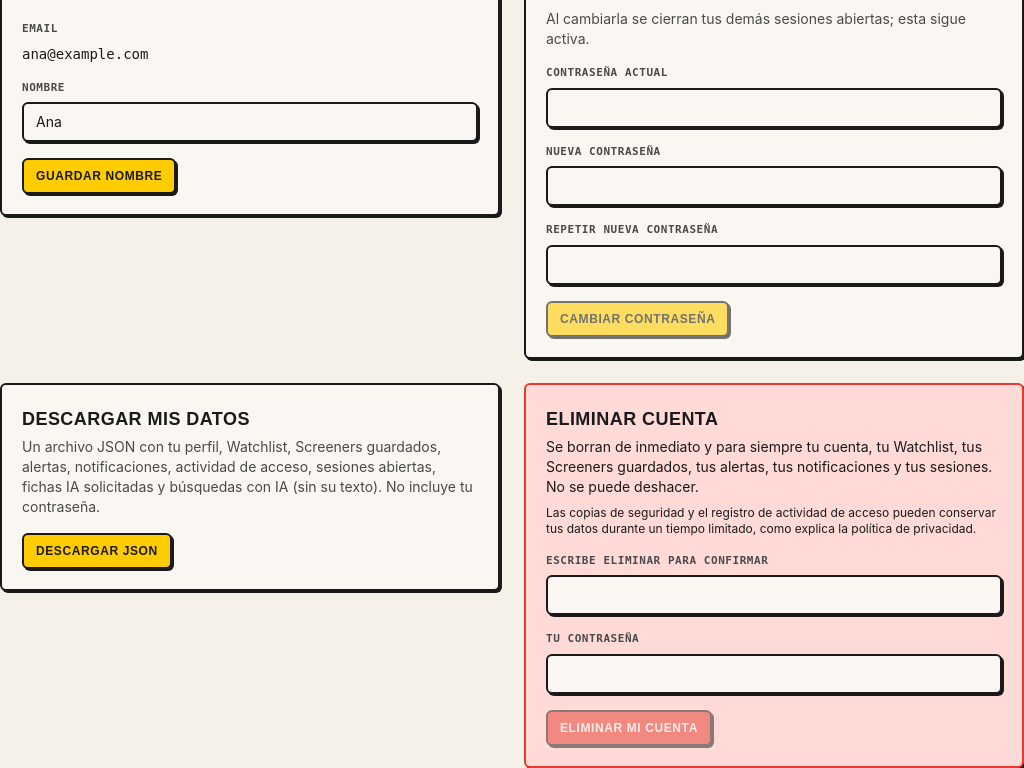
Test: shows the server errors when the deletion is rejected and keeps the account
(page scrolled)
In the field labelled "Escribe ELIMINAR para confirmar": (774, 595) x1=546 y1=575 x2=1002 y2=615, type "BORRAR"
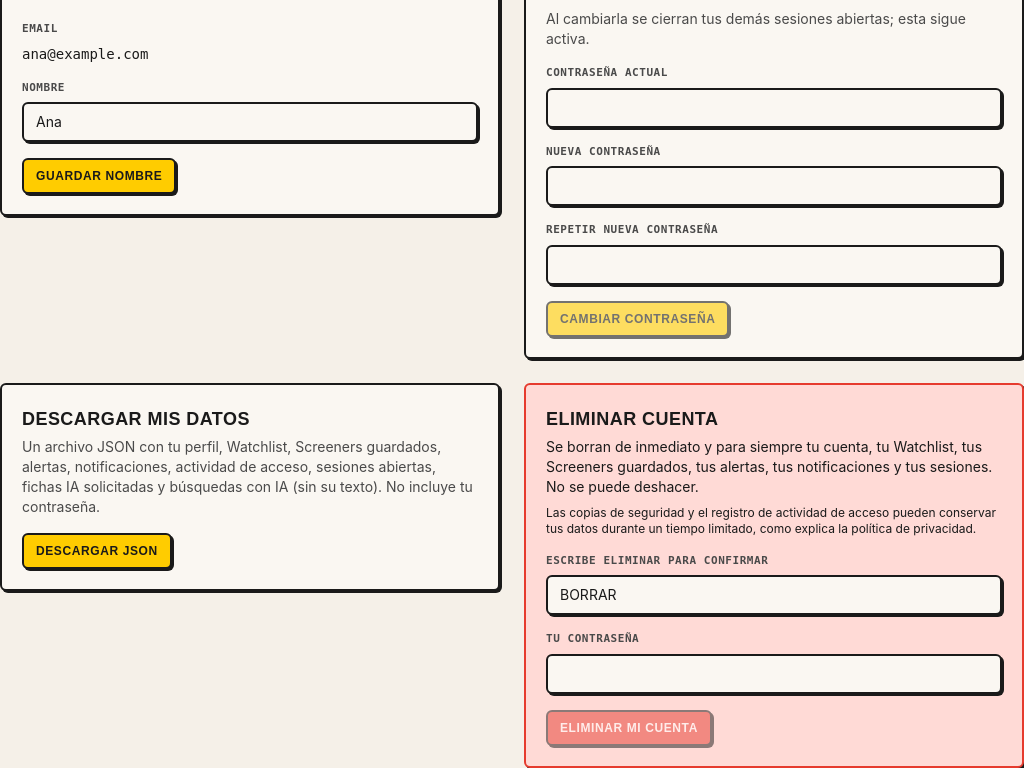
In the password field labelled "Tu contraseña": (774, 674) x1=546 y1=654 x2=1002 y2=694, type "wrong"
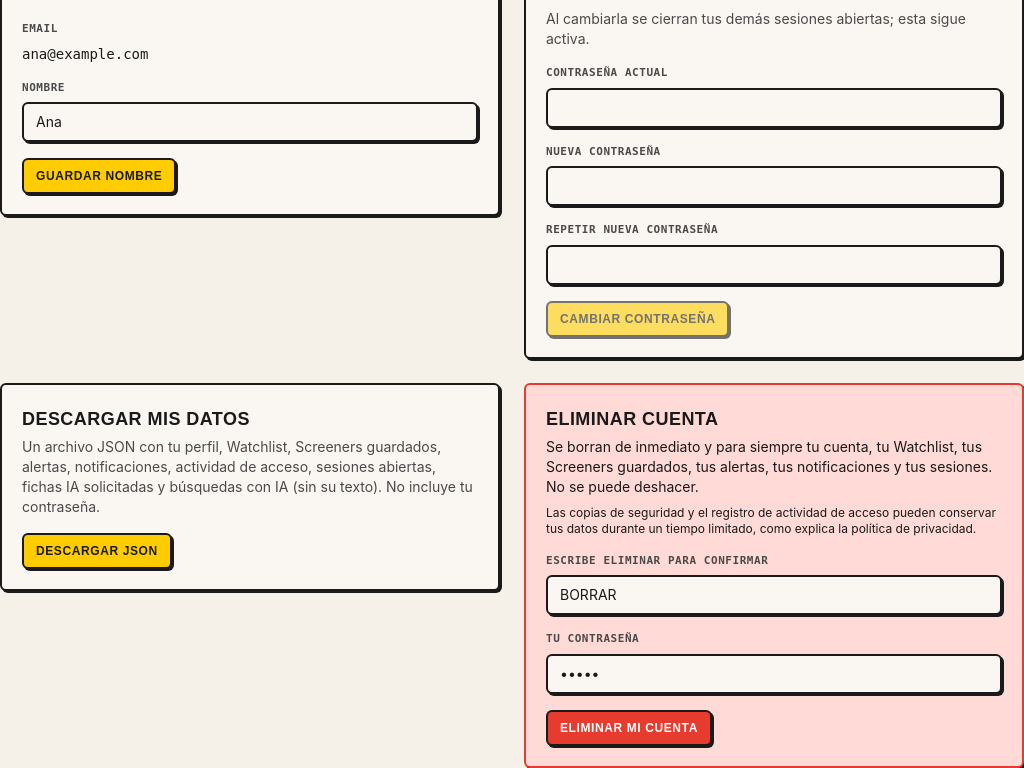
Click the button "Eliminar mi cuenta": click(629, 728) x1=546 y1=710 x2=712 y2=746
(page scrolled)
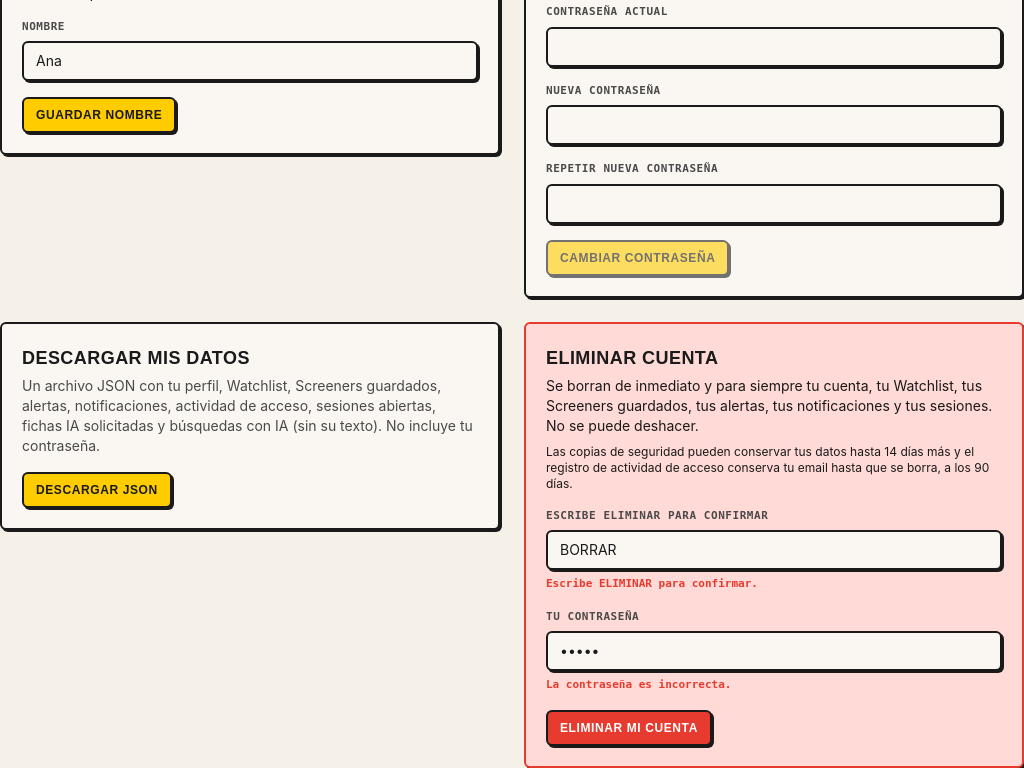
Check: the button "Eliminar mi cuenta" is enabled, box x1=546 y1=710 x2=712 y2=746
Check: the text "La contraseña es incorrecta." is shown, box x1=546 y1=678 x2=731 y2=691
Check: the text "Escribe ELIMINAR para confirmar." is shown, box x1=546 y1=577 x2=758 y2=590
